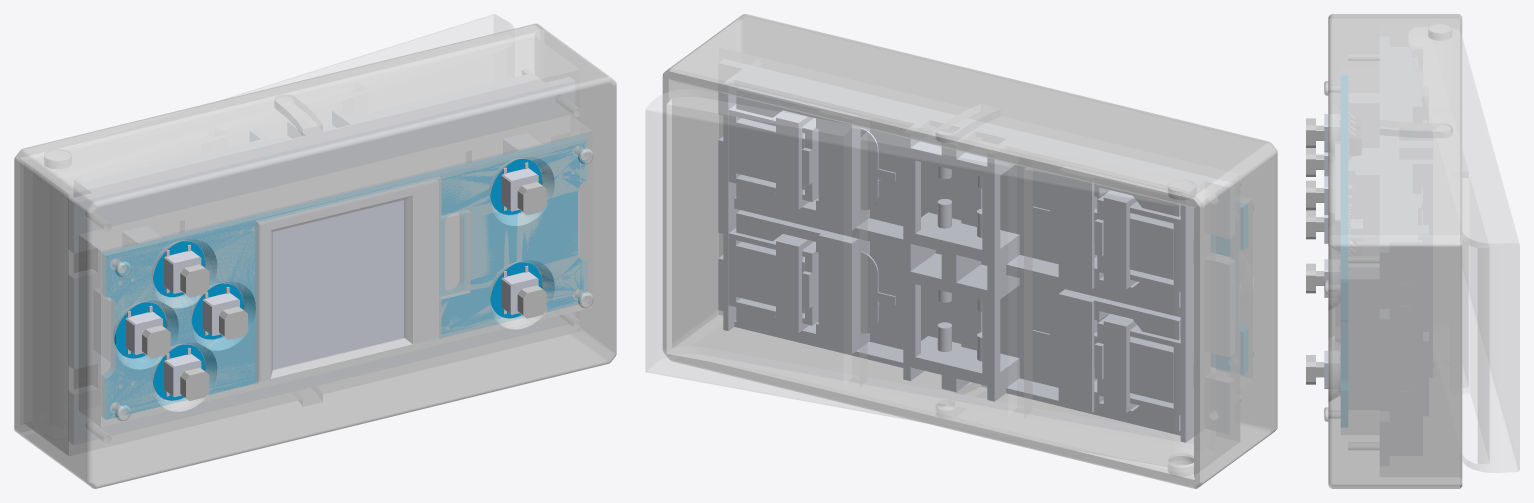
Rendered from gameboy.gltf.
3 views of the same model, side by side, from view 1: azimuth 30°, elevation 25°; view 2: azimuth 150°, elevation 25°; view 3: azimuth 270°, elevation 25° (orthographic). The views are drawn at different scales.
Parts seen in each view (by area): view 1: 外壳-1, Eink_Mini_Component_V2-1, 4V2-1, 盖子-1; view 2: 盖子-1, 外壳-1, 4V2-1, PM5600-4, PM5600-3, PM5600-1, PM5600-2, Eink_Mini_Component_V2-1; view 3: 外壳-1, 4V2-1, 盖子-1, Eink_Mini_Component_V2-1, PM5600-3, PM5600-2.
Part boxes in pixels (left/top/right/bottom): 外壳-1: left=14, top=23, right=616, bottom=488; Eink_Mini_Component_V2-1: left=102, top=136, right=586, bottom=419; 4V2-1: left=69, top=69, right=574, bottom=444; 盖子-1: left=224, top=14, right=514, bottom=99; 盖子-1: left=645, top=89, right=1193, bottom=469; 外壳-1: left=662, top=14, right=1277, bottom=488; 4V2-1: left=718, top=59, right=1234, bottom=442; PM5600-4: left=728, top=210, right=895, bottom=353; PM5600-3: left=728, top=87, right=895, bottom=230; PM5600-1: left=1032, top=289, right=1193, bottom=431; PM5600-2: left=1032, top=175, right=1193, bottom=307; Eink_Mini_Component_V2-1: left=1216, top=203, right=1247, bottom=374; 外壳-1: left=1324, top=14, right=1462, bottom=488; 4V2-1: left=1349, top=37, right=1432, bottom=465; 盖子-1: left=1462, top=38, right=1519, bottom=472; Eink_Mini_Component_V2-1: left=1306, top=76, right=1362, bottom=426; PM5600-3: left=1403, top=194, right=1420, bottom=305; PM5600-2: left=1413, top=63, right=1426, bottom=192.
Bounding box in the file's own units: 0.11 × 0.057 × 0.0435.
